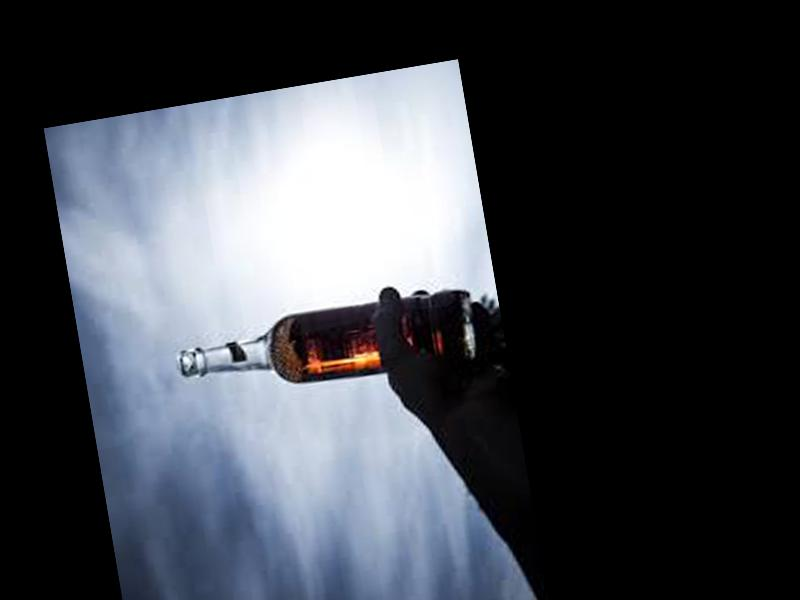Beer: (174, 289, 475, 406)
